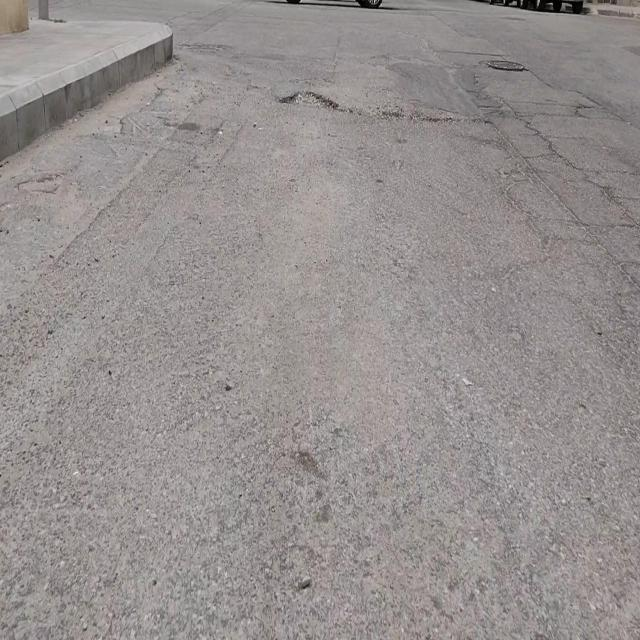Pothole: (280, 90, 339, 111)
